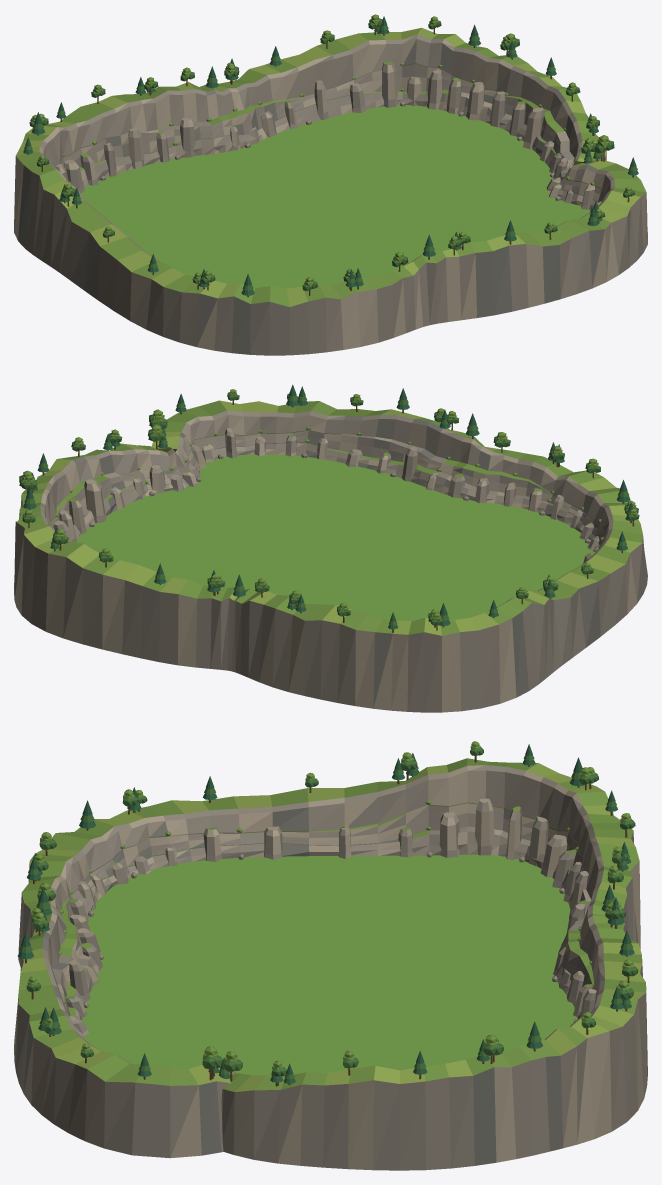
File: ResourceWorldBoundary.glb
3 renders of one model, top to bottom at view 1: azimuth 30°, elevation 25°; view 2: azimuth 150°, elevation 25°; view 3: azimuth 270°, elevation 25°, orthographic. The views are drawn at different scales.
Parts seen in each view (by area): view 1: BoundaryGround, WorldBoundary_05_Stone, WorldBoundary_01_Stone, WorldBoundary_02_Stone, WorldBoundary_00_Stone, WorldBoundary_04_Stone, WorldBoundary_01_StoneLight, WorldBoundary_04_StoneLight, WorldBoundary_02_StoneLight, WorldBoundary_04_StoneShade, WorldBoundary_03_Stone, WorldBoundary_05_Grass (+21 smaller); view 2: BoundaryGround, WorldBoundary_01_Stone, WorldBoundary_00_Stone, WorldBoundary_04_Stone, WorldBoundary_00_StoneLight, WorldBoundary_05_Stone, WorldBoundary_01_StoneLight, WorldBoundary_02_Stone, WorldBoundary_03_Stone, WorldBoundary_04_StoneLight, WorldBoundary_03_StoneLight, WorldBoundary_05_Grass (+24 smaller); view 3: BoundaryGround, WorldBoundary_02_Stone, WorldBoundary_03_Stone, WorldBoundary_05_Stone, WorldBoundary_00_Stone, WorldBoundary_02_StoneLight, WorldBoundary_00_StoneLight, WorldBoundary_05_StoneLight, WorldBoundary_03_StoneLight, WorldBoundary_04_Stone, WorldBoundary_05_Grass, WorldBoundary_01_Stone (+27 smaller).
Boxes of the visible parts, x1=… form: BoundaryGround: x1=80, y1=105, x2=590, y2=288; WorldBoundary_05_Stone: x1=59, y1=200, x2=343, y2=355; WorldBoundary_01_Stone: x1=154, y1=40, x2=387, y2=162; WorldBoundary_02_Stone: x1=382, y1=34, x2=576, y2=167; WorldBoundary_00_Stone: x1=14, y1=98, x2=160, y2=272; WorldBoundary_04_Stone: x1=377, y1=220, x2=592, y2=342; WorldBoundary_01_StoneLight: x1=155, y1=40, x2=386, y2=159; WorldBoundary_04_StoneLight: x1=357, y1=229, x2=606, y2=346; WorldBoundary_02_StoneLight: x1=381, y1=35, x2=580, y2=158; WorldBoundary_04_StoneShade: x1=475, y1=229, x2=604, y2=317; WorldBoundary_03_Stone: x1=547, y1=132, x2=647, y2=274; WorldBoundary_05_Grass: x1=67, y1=200, x2=356, y2=306; BoundaryGround: x1=76, y1=454, x2=592, y2=621; WorldBoundary_01_Stone: x1=63, y1=545, x2=292, y2=691; WorldBoundary_00_Stone: x1=304, y1=590, x2=561, y2=712; WorldBoundary_04_Stone: x1=285, y1=411, x2=543, y2=509; WorldBoundary_00_StoneLight: x1=288, y1=597, x2=516, y2=712; WorldBoundary_05_Stone: x1=528, y1=476, x2=647, y2=665; WorldBoundary_01_StoneLight: x1=45, y1=553, x2=275, y2=687; WorldBoundary_02_Stone: x1=14, y1=451, x2=139, y2=631; WorldBoundary_03_Stone: x1=121, y1=410, x2=293, y2=499; WorldBoundary_04_StoneLight: x1=285, y1=415, x2=546, y2=507; WorldBoundary_03_StoneLight: x1=134, y1=415, x2=285, y2=498; WorldBoundary_05_Grass: x1=534, y1=464, x2=642, y2=600; BoundaryGround: x1=82, y1=854, x2=577, y2=1075; WorldBoundary_02_Stone: x1=277, y1=1005, x2=637, y2=1170; WorldBoundary_03_Stone: x1=41, y1=1029, x2=280, y2=1163; WorldBoundary_05_Stone: x1=28, y1=784, x2=405, y2=923; WorldBoundary_00_Stone: x1=399, y1=765, x2=633, y2=918; WorldBoundary_02_StoneLight: x1=278, y1=1029, x2=611, y2=1170; WorldBoundary_00_StoneLight: x1=398, y1=765, x2=640, y2=949; WorldBoundary_05_StoneLight: x1=55, y1=797, x2=405, y2=923; WorldBoundary_03_StoneLight: x1=31, y1=1038, x2=254, y2=1159; WorldBoundary_04_Stone: x1=14, y1=882, x2=103, y2=1093; WorldBoundary_05_Grass: x1=29, y1=781, x2=405, y2=902; WorldBoundary_01_Stone: x1=552, y1=866, x2=647, y2=1097.
Size of the model in its own units: 239 by 44.93 by 203.
